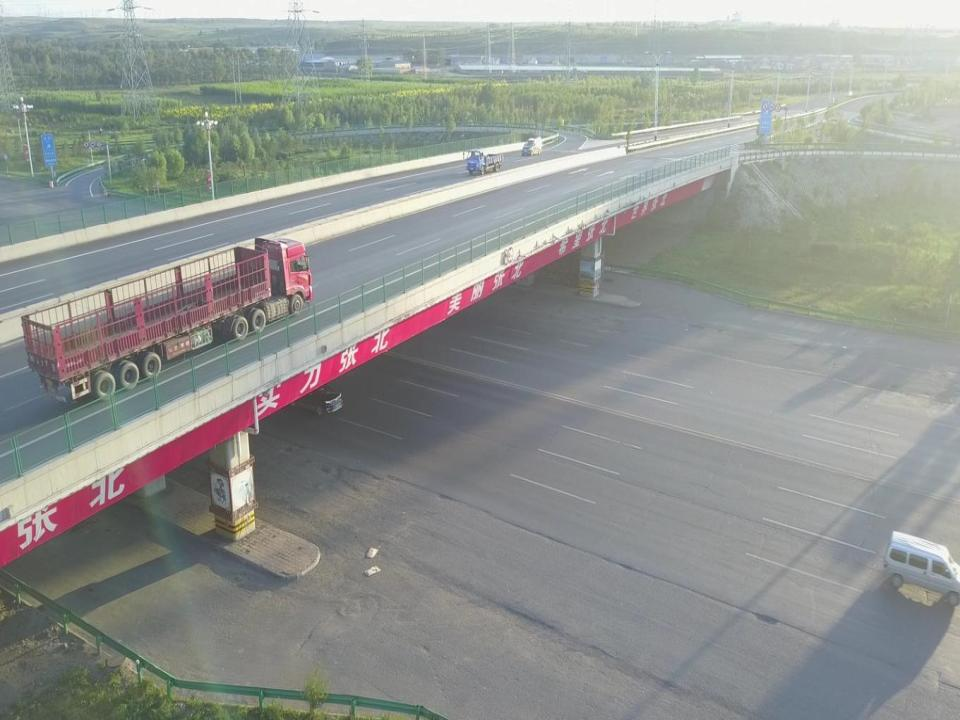car: (522, 138, 544, 156)
truck: (21, 238, 316, 412), (463, 146, 503, 180)
van: (886, 522, 958, 602)
